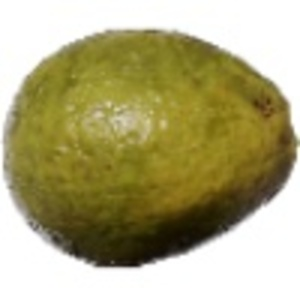goiaba: (5, 19, 296, 270)
